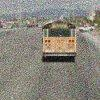buses: (38, 19, 80, 61)
